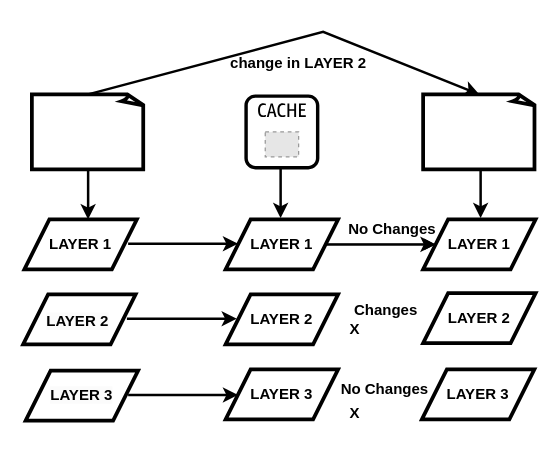
Some shapes in this 559 by 453 pixel diagram are drawn without their labels. Grey dashed boxes stand in for pictures. Here are the shapes that lost their labels. From the top down, the box of each, then its label:
(29, 92, 146, 171): Dockerfile
(421, 92, 537, 171): Changes in Dockerfile
